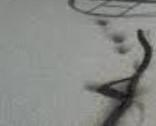crack: (95, 24, 150, 126)
